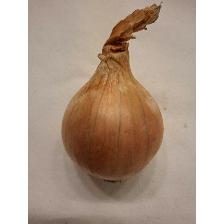Zwiebel: (59, 4, 169, 184)
